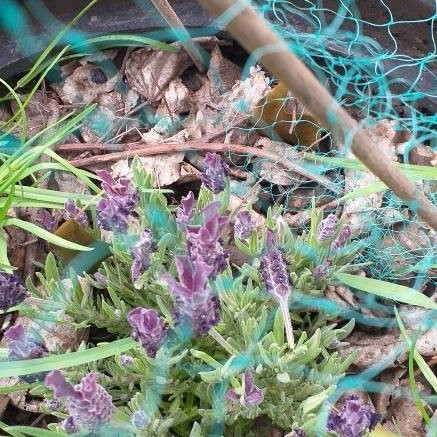obstacle: (40, 122, 379, 404)
